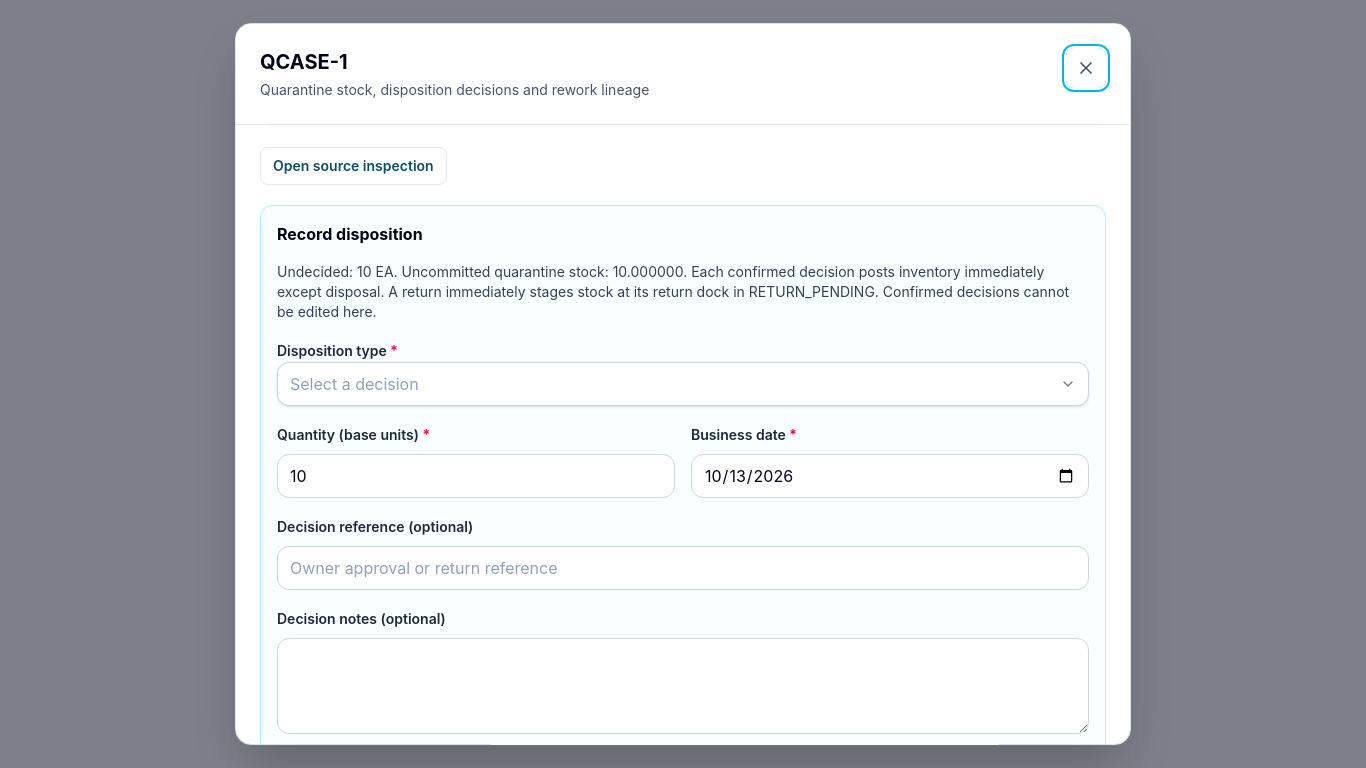
Test: quarantine decisions › blocks excessive quantities inline and with a toast
(page scrolled)
Step 1. Click the dropdown named "Disposition type" → (354, 384), box [277,362,1089,406]
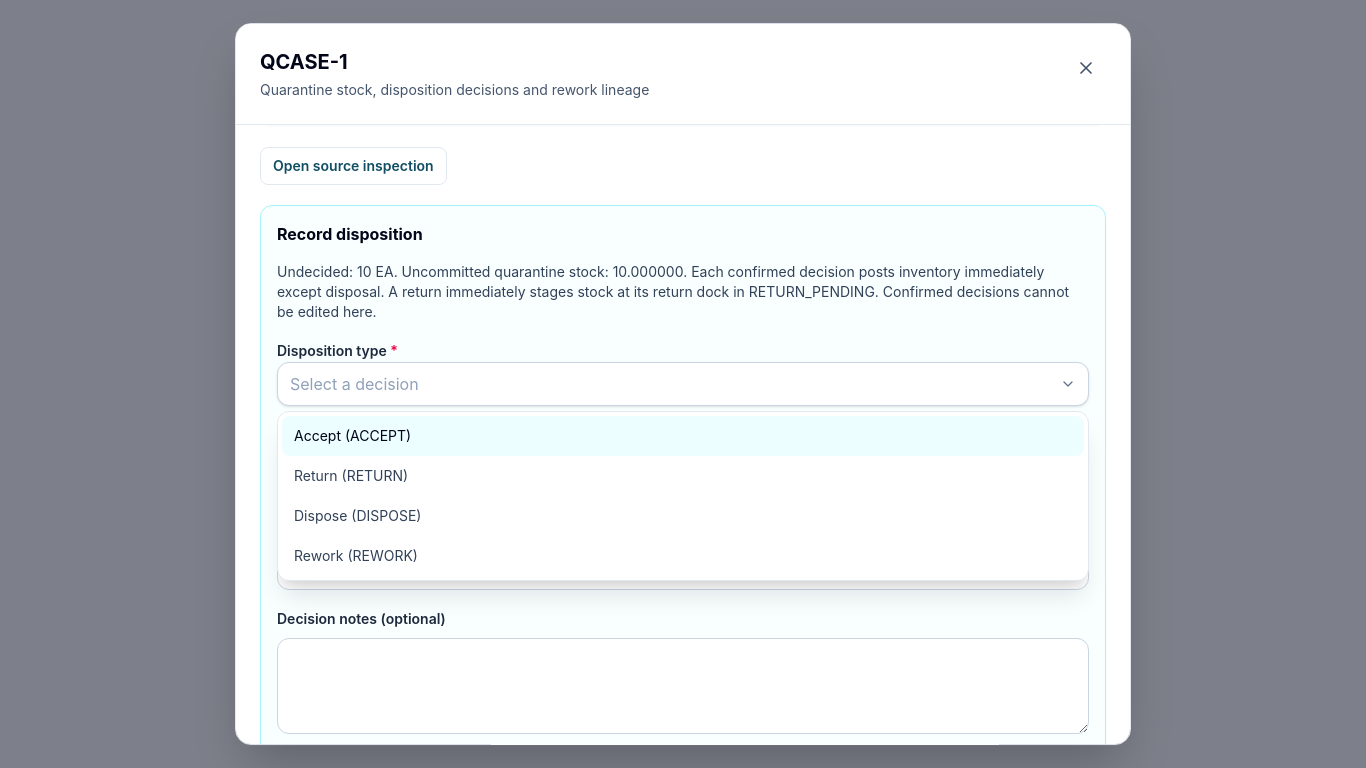
Step 2. Click the option "Return (RETURN)" → (351, 476), box [294,467,408,484]
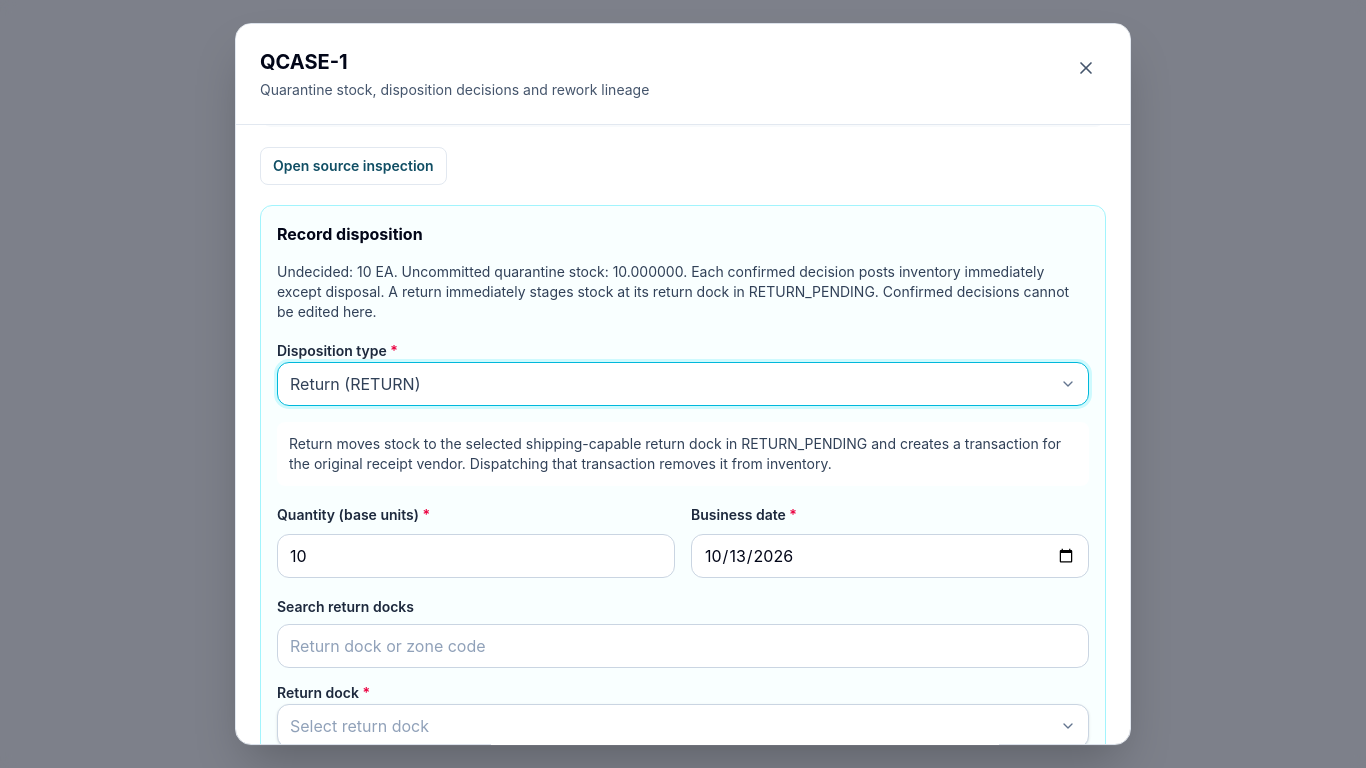
Step 3. Replace the text in the field labelled "Quantity (base units) *" with "11" → (476, 556), box [277,534,675,578]
(page scrolled)
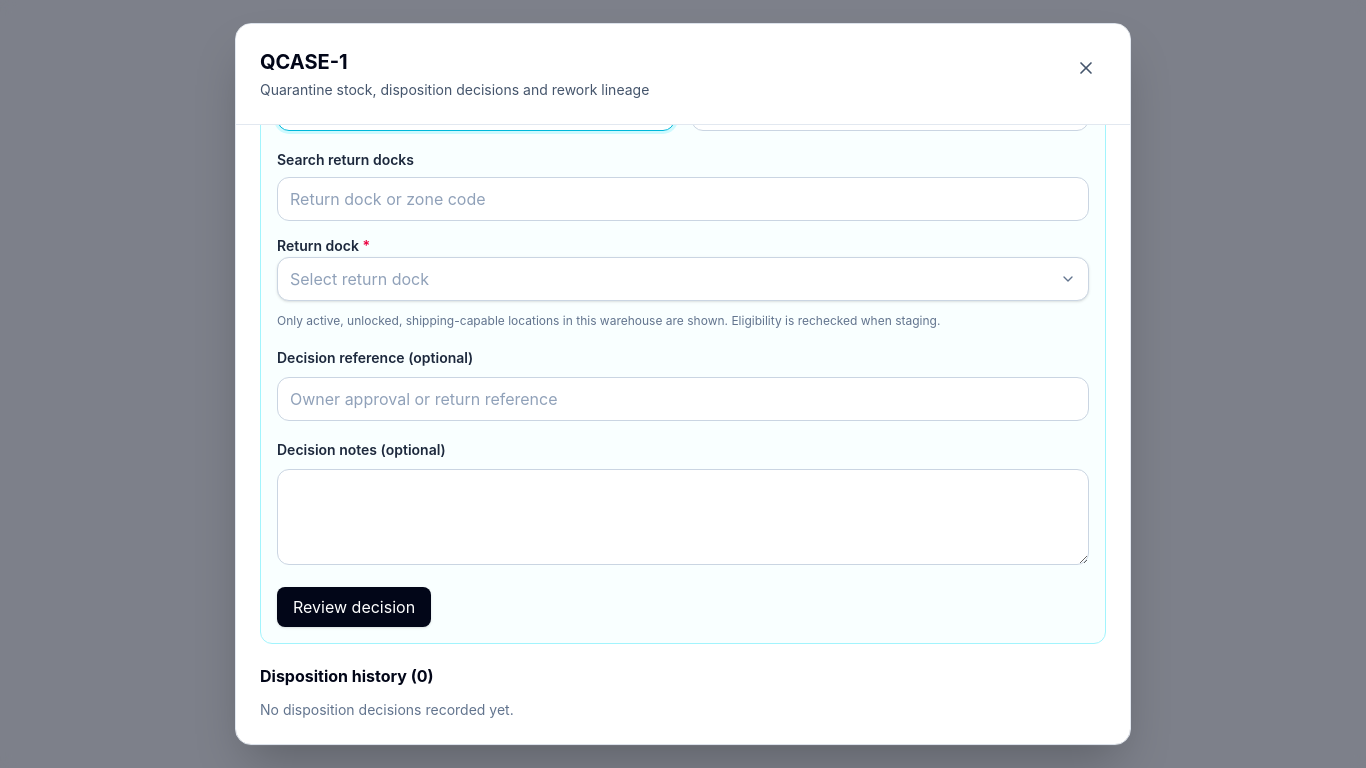
Step 4. Click the button "Review decision" → (354, 607), box [277,587,431,627]
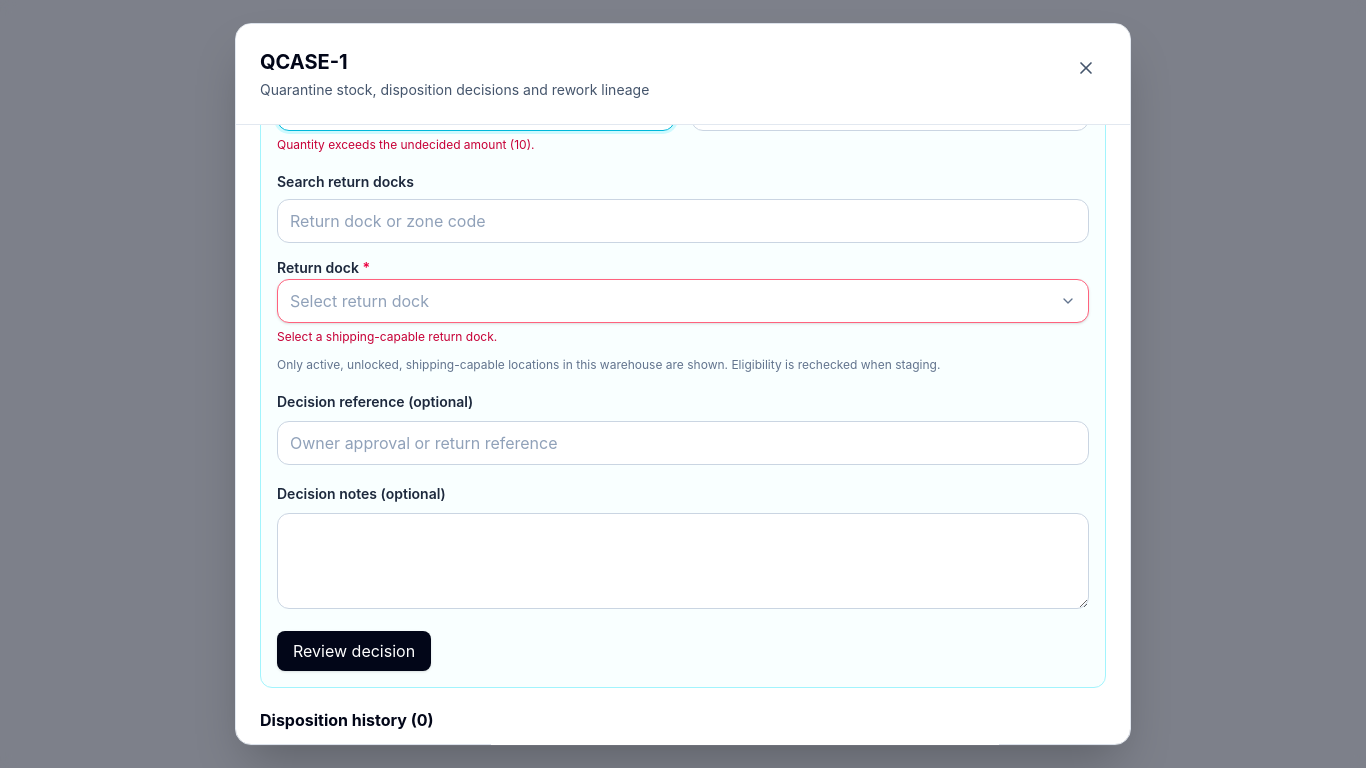
Check: the text "Quantity exceeds the undecided amount (10)." is shown, box [277,137,534,152]
